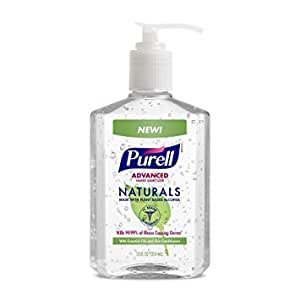Sanitizer: (86, 17, 215, 282)
